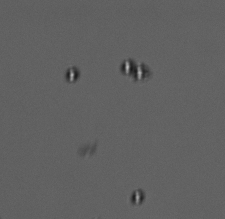Living Cell: (132, 62, 148, 81), (130, 188, 146, 206), (65, 67, 78, 85), (120, 58, 133, 75)
